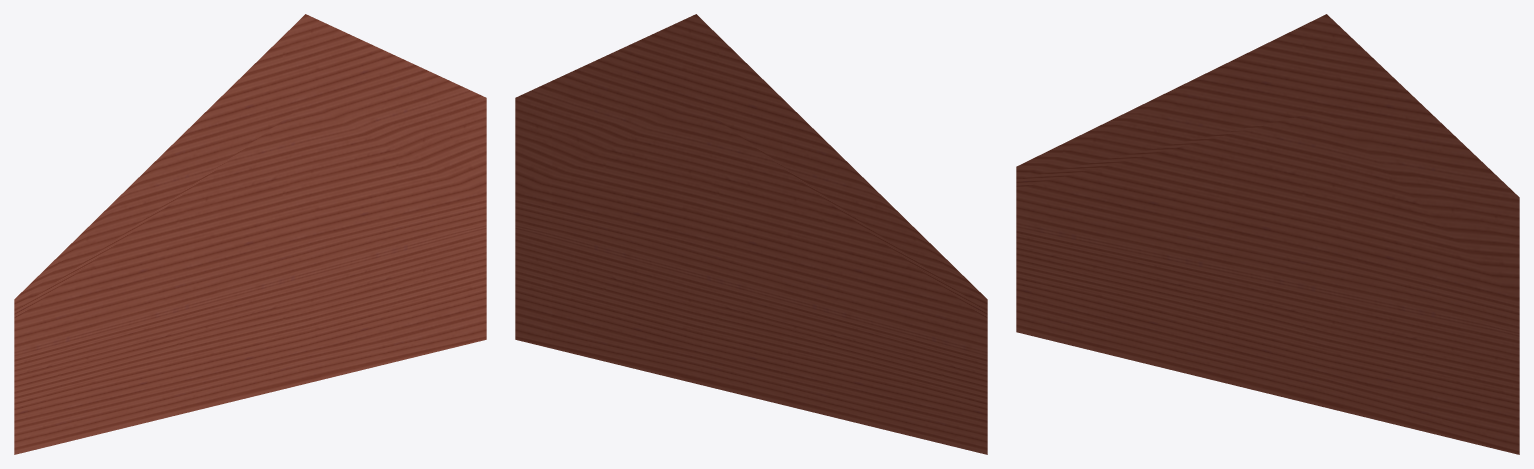
The model's file is house_side_2.fbx.
The picture shows the model from 3 angles, left to right: view 1: azimuth 30°, elevation 25°; view 2: azimuth 150°, elevation 25°; view 3: azimuth 330°, elevation 25°; orthographic projection. The views are drawn at different scales.
Parts seen in each view (by area): view 1: pCube49; view 2: pCube49; view 3: pCube49.
Part boxes in pixels (<box>): pCube49: <box>14,14,486,454</box>; pCube49: <box>515,14,987,454</box>; pCube49: <box>1016,14,1519,454</box>.
Bounding box in the file's own units: 10.04 × 7.51 × 0.
